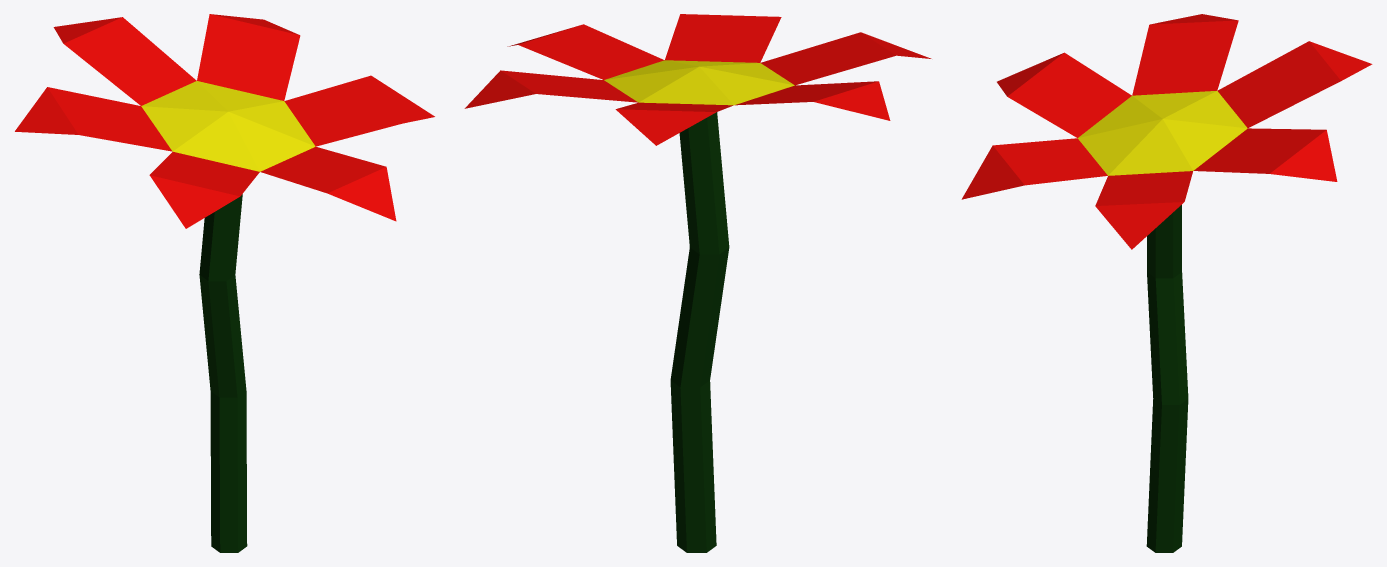
The model's file is flower-red.glb.
3 views of the same model, side by side, from view 1: azimuth 30°, elevation 25°; view 2: azimuth 150°, elevation 25°; view 3: azimuth 270°, elevation 25° (orthographic). The views are drawn at different scales.
Parts seen in each view (by area): view 1: flower-red; view 2: flower-red; view 3: flower-red.
Part boxes in pixels (<box>): flower-red: <box>15,14,434,552</box>; flower-red: <box>464,14,931,552</box>; flower-red: <box>961,14,1372,552</box>.
Bounding box in the file's own units: 0.3136 × 0.3664 × 0.296.
